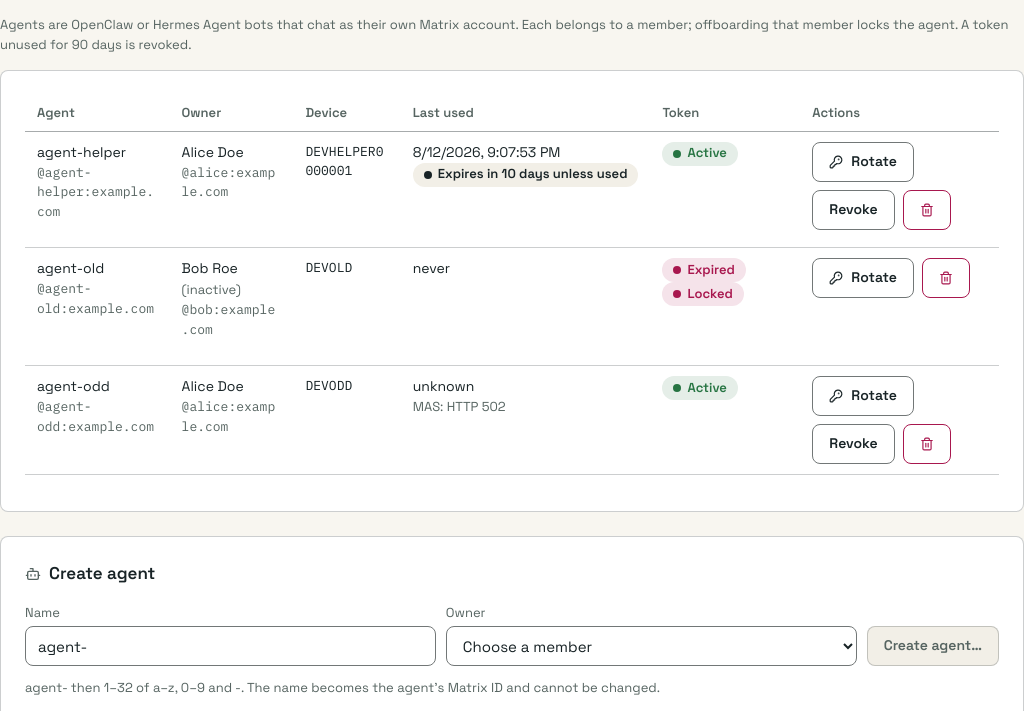
Scenario: Agents › shows the warnings before creating; Cancel sends nothing
Replace the text in the field labelled "Name" with "agent-Bad!" at (230, 646), box [25, 626, 436, 666]
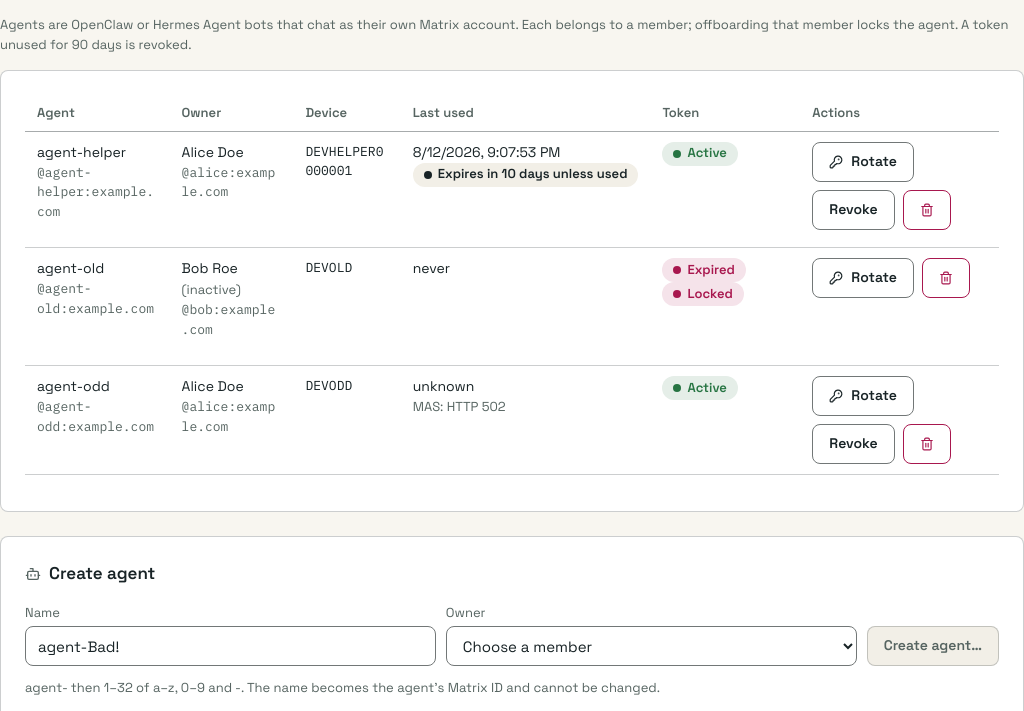
Select "Alice Doe (@alice:example.com)" in the dropdown labelled "Owner" at (651, 646), box [446, 626, 857, 666]
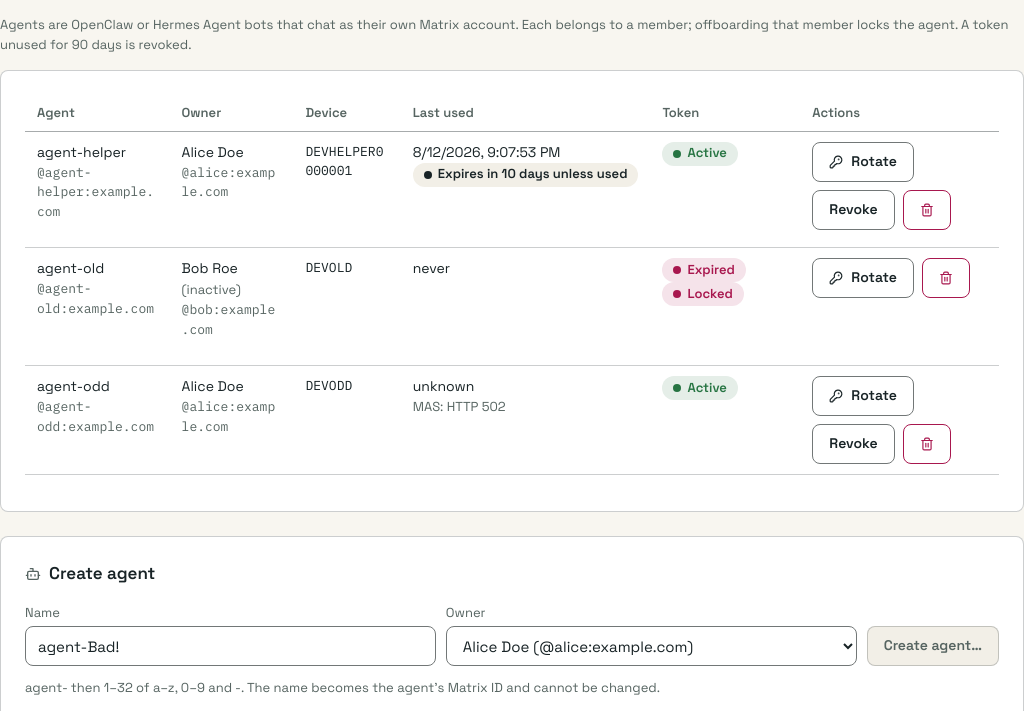
Expected: the button "Create agent…" is disabled, [867, 626, 999, 666]
Replace the text in the field labelled "Name" with "agent-notes" at (230, 646), box [25, 626, 436, 666]
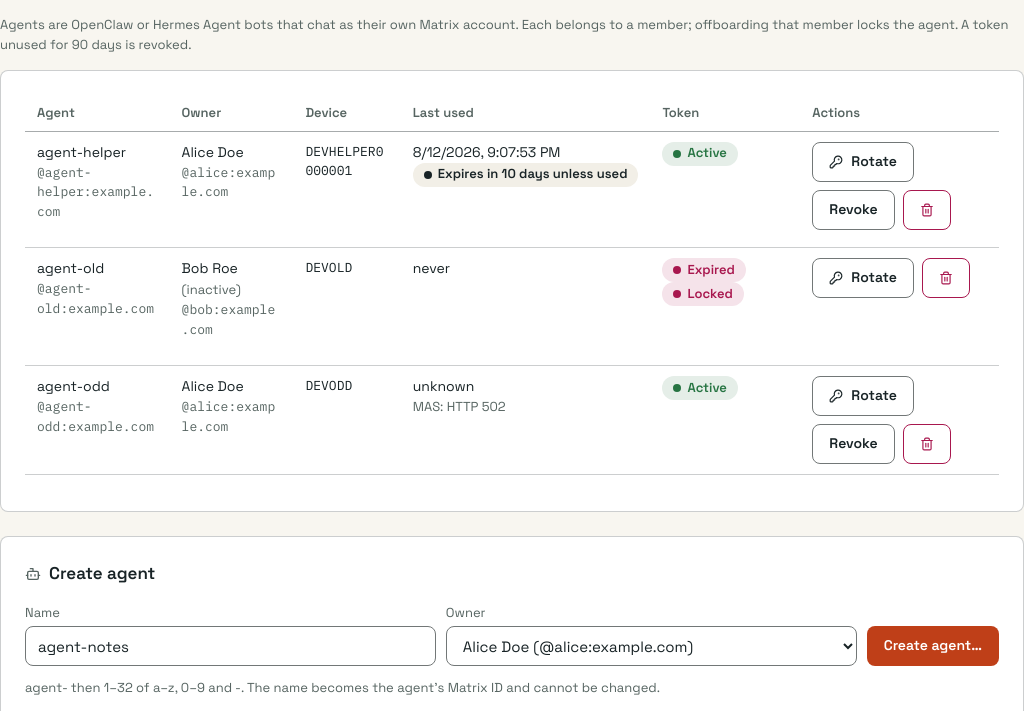
Click the button "Create agent…".
click(933, 646)  # box [867, 626, 999, 666]
(page scrolled)
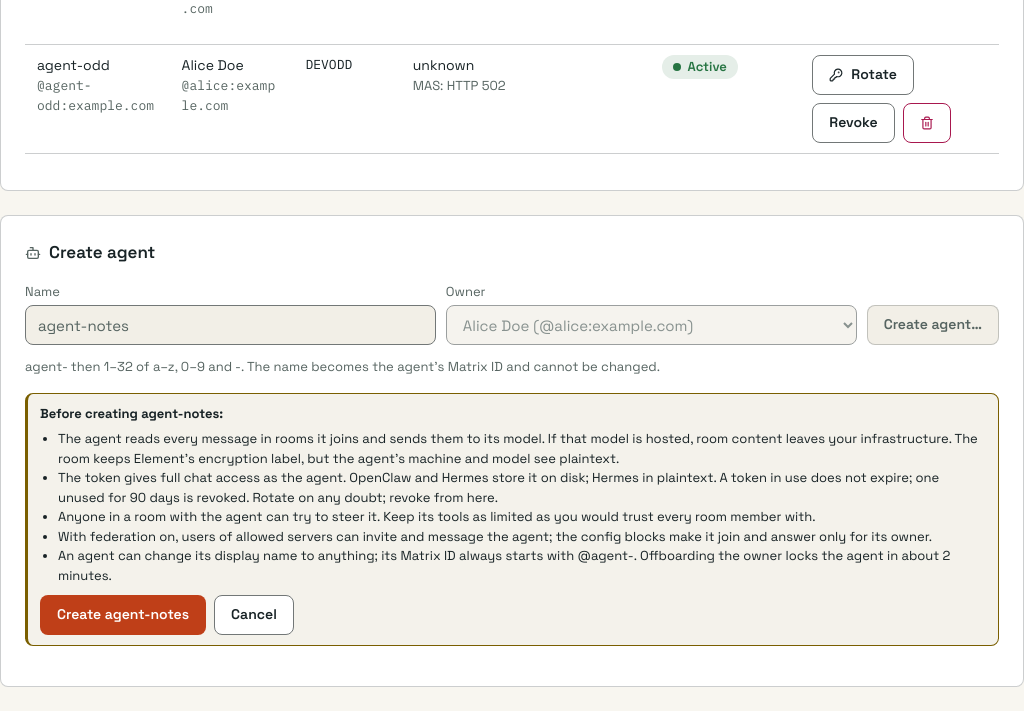
Now the message shows "room content leaves your infrastructure", box [58, 430, 978, 466]
Now the list item "join and answer only for its owner" is shown, box [58, 528, 932, 544]
Now the list item "always starts with @agent-" is shown, box [58, 547, 950, 584]
Click the button "Cancel".
click(254, 615)  # box [214, 595, 294, 635]
(page scrolled)
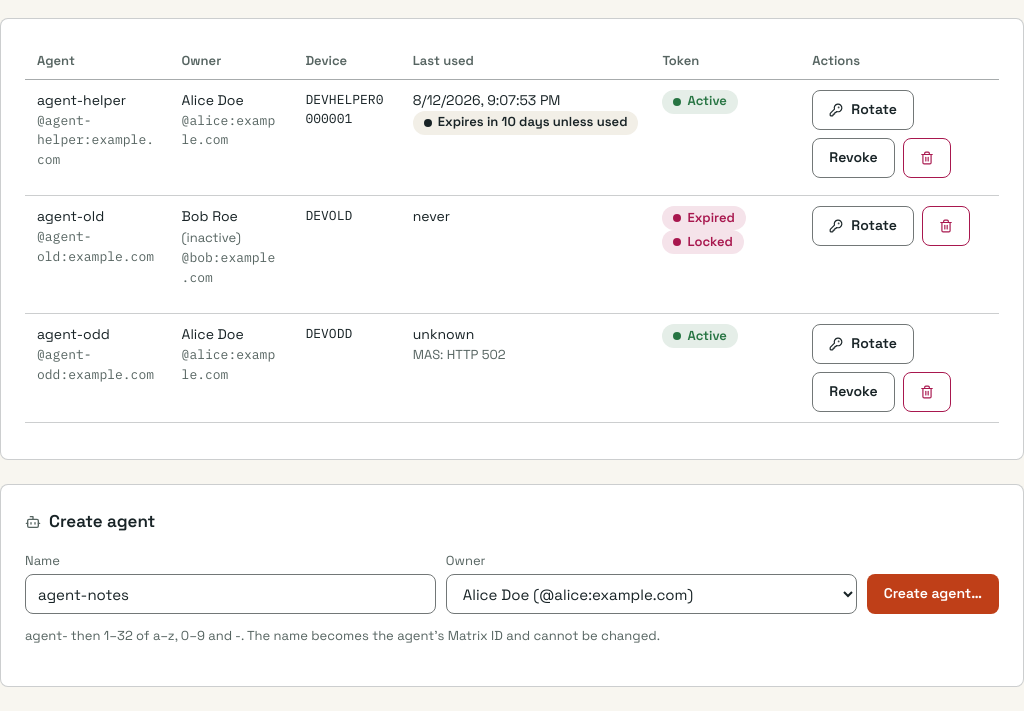
Now the button "Create agent-notes" is gone
